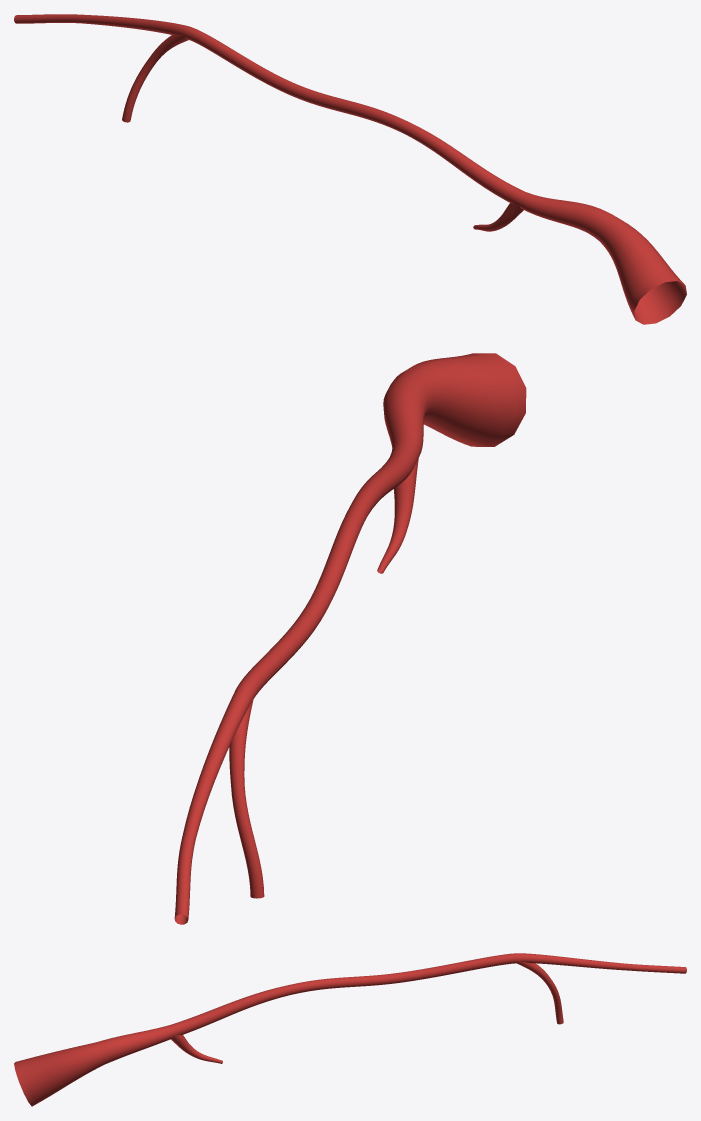
3 renders of one model, top to bottom at view 1: azimuth 30°, elevation 25°; view 2: azimuth 150°, elevation 25°; view 3: azimuth 270°, elevation 25°, orthographic. The views are drawn at different scales.
Parts seen in each view (by area): view 1: 左侧下牙槽动脉下颌舌骨肌支; view 2: 左侧下牙槽动脉下颌舌骨肌支; view 3: 左侧下牙槽动脉下颌舌骨肌支.
Boxes of the visible parts, left/top/right/bottom form: 左侧下牙槽动脉下颌舌骨肌支: left=14, top=14, right=686, bottom=324; 左侧下牙槽动脉下颌舌骨肌支: left=174, top=353, right=526, bottom=924; 左侧下牙槽动脉下颌舌骨肌支: left=14, top=953, right=686, bottom=1106.
Size of the model in its own units: 0.00998 by 0.00418 by 0.0286.
